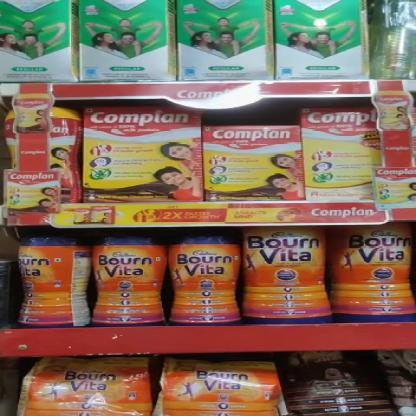Complan Kesar Badam: (304, 106, 380, 202)
Complan Royal Chocolate: (86, 107, 204, 202), (208, 124, 310, 202)
